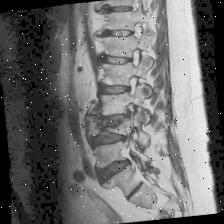disc: (93, 0, 144, 22), (95, 22, 140, 46), (99, 76, 136, 102), (100, 48, 139, 72), (100, 104, 135, 124)
hdisc: (94, 154, 140, 186), (89, 128, 132, 153)
